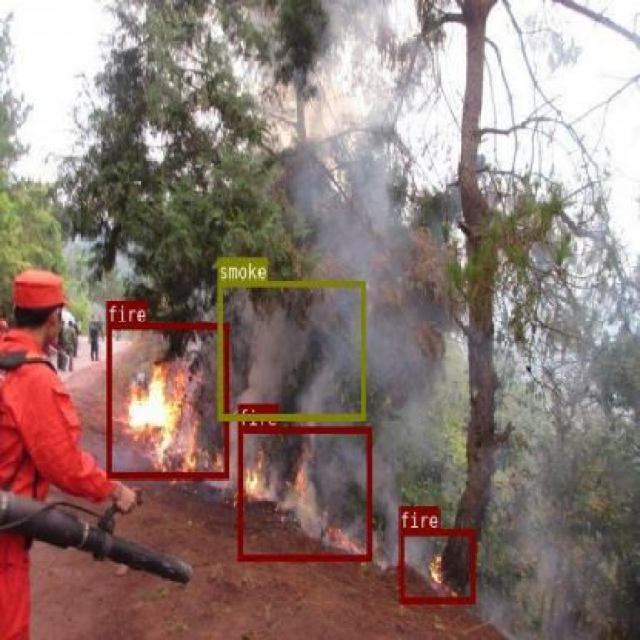Fire: (106, 321, 228, 477), (237, 426, 371, 560), (398, 528, 474, 602)
Smoke: (300, 4, 404, 285), (217, 280, 365, 418), (497, 481, 604, 640), (376, 312, 446, 479)
